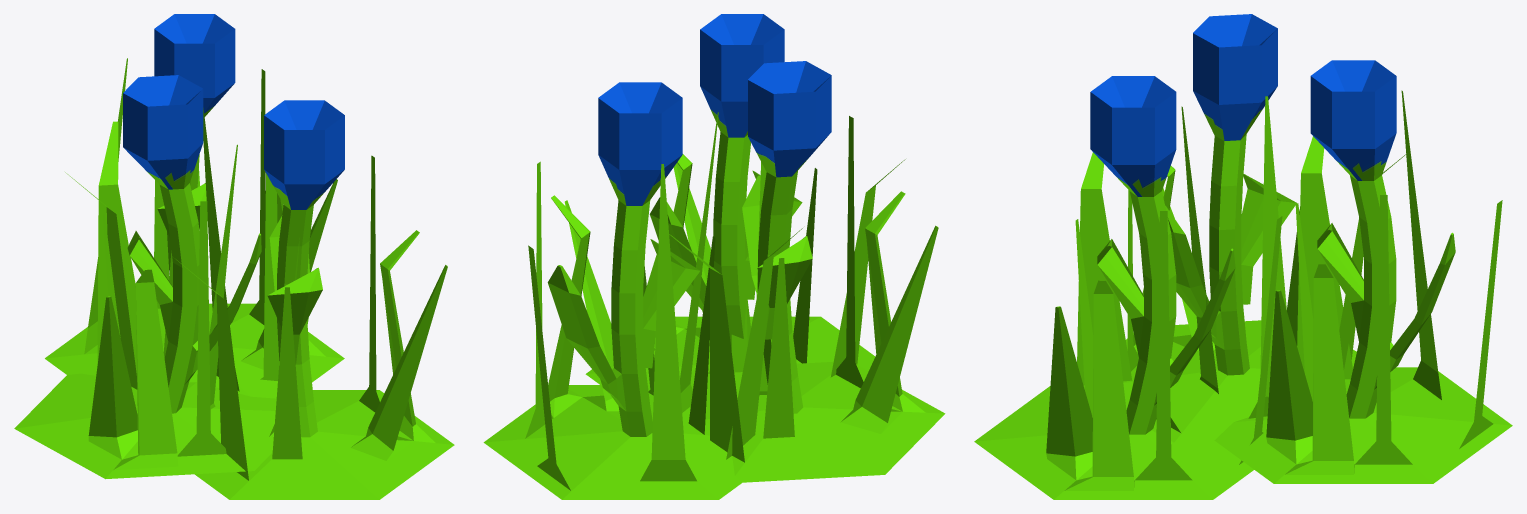
Rendered from FLowers Blue.fbx.
The picture shows the model from 3 angles, left to right: view 1: azimuth 30°, elevation 25°; view 2: azimuth 150°, elevation 25°; view 3: azimuth 270°, elevation 25°; orthographic projection. The views are drawn at different scales.
Parts seen in each view (by area): view 1: Cylinder.002, Cylinder.001, Cylinder; view 2: Cylinder, Cylinder.002, Cylinder.001; view 3: Cylinder, Cylinder.001, Cylinder.002.
Boxes of the visible parts, box(x1,y1,x2,y2) form: Cylinder.002: box(14, 75, 299, 479); Cylinder.001: box(176, 100, 454, 499); Cylinder: box(45, 14, 344, 398); Cylinder: box(483, 82, 802, 499); Cylinder.002: box(668, 61, 945, 482); Cylinder.001: box(585, 14, 905, 395); Cylinder: box(1214, 60, 1512, 483); Cylinder.001: box(974, 76, 1282, 499); Cylinder.002: box(1083, 14, 1406, 442).
Size of the model in its own units: 248 by 248 by 334.
